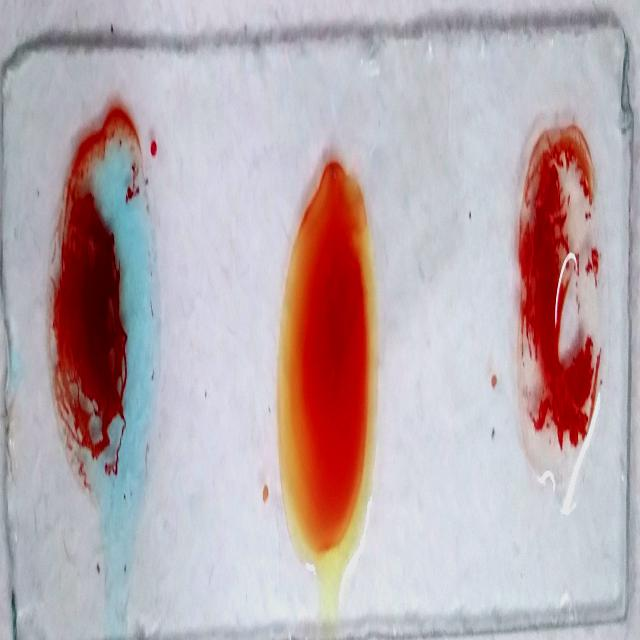A: (44, 96, 152, 550)
D: (510, 121, 604, 520)
